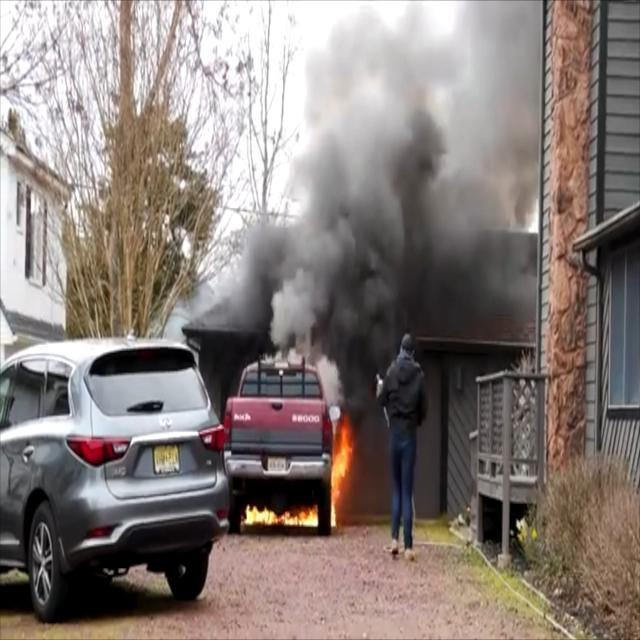fire: (308, 409, 358, 526), (225, 500, 309, 534)
